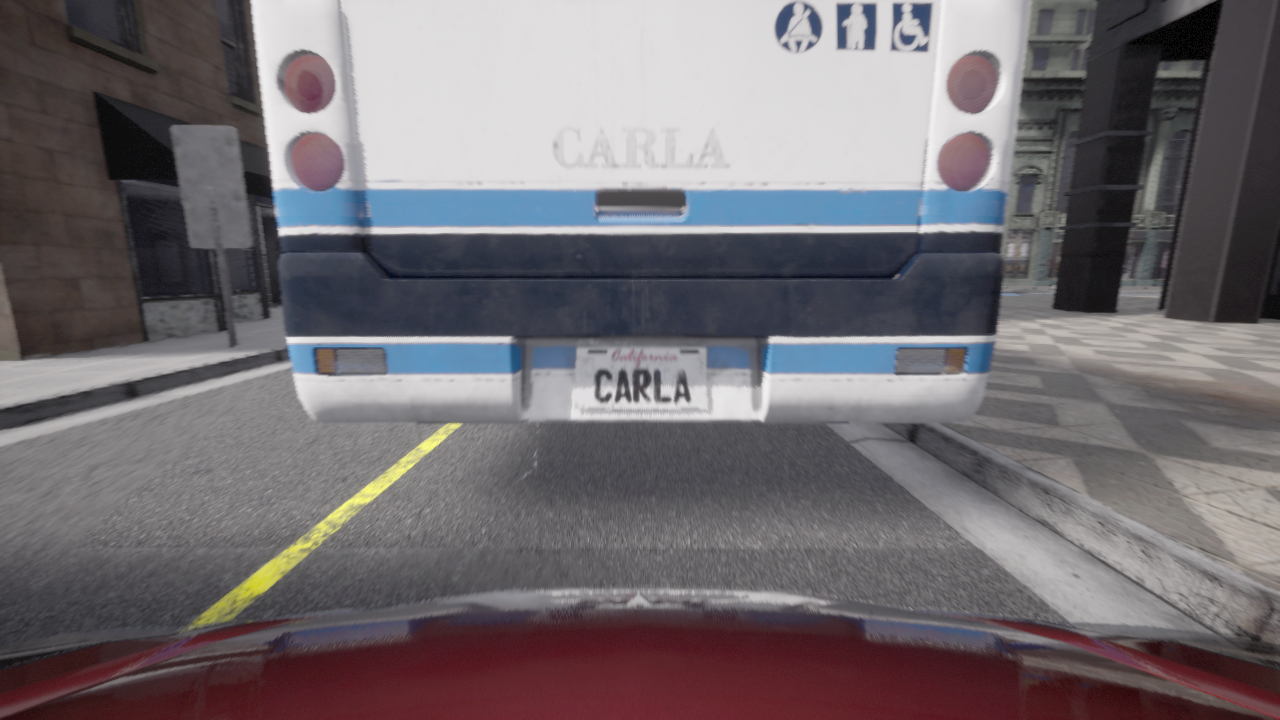cyclist: (252, 0, 1029, 422), (0, 588, 1279, 719)
